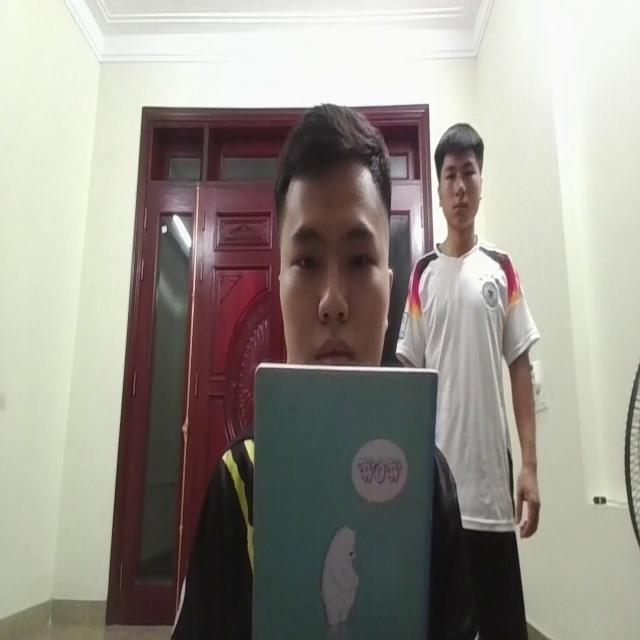book: (243, 346, 438, 640)
extra_person: (402, 106, 538, 589)
student: (279, 103, 395, 367)
